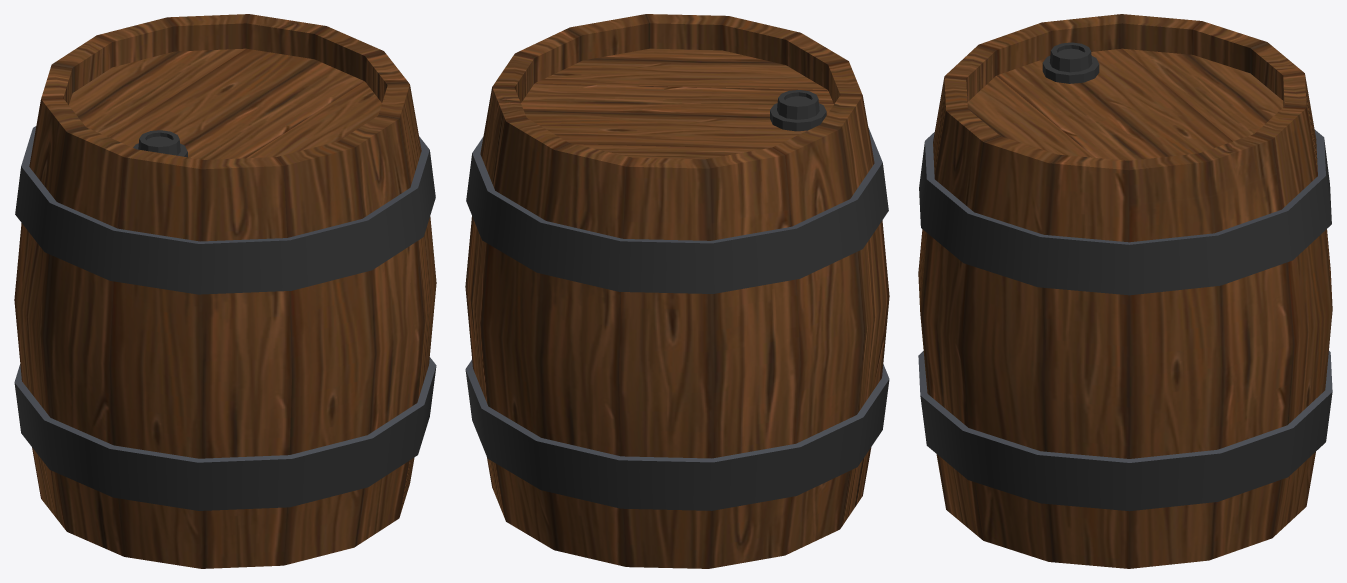
Rendered from 1 barril.fbx.
The picture shows the model from 3 angles, left to right: view 1: azimuth 30°, elevation 25°; view 2: azimuth 150°, elevation 25°; view 3: azimuth 270°, elevation 25°; orthographic projection.
Parts seen in each view (by area): view 1: Cylinder.007; view 2: Cylinder.007; view 3: Cylinder.007.
Part boxes in pixels (left/top/right/bottom): Cylinder.007: left=14, top=14, right=436, bottom=568; Cylinder.007: left=465, top=14, right=889, bottom=568; Cylinder.007: left=918, top=14, right=1332, bottom=568.
Bounding box in the file's own units: 64.98 × 67.58 × 63.64.
